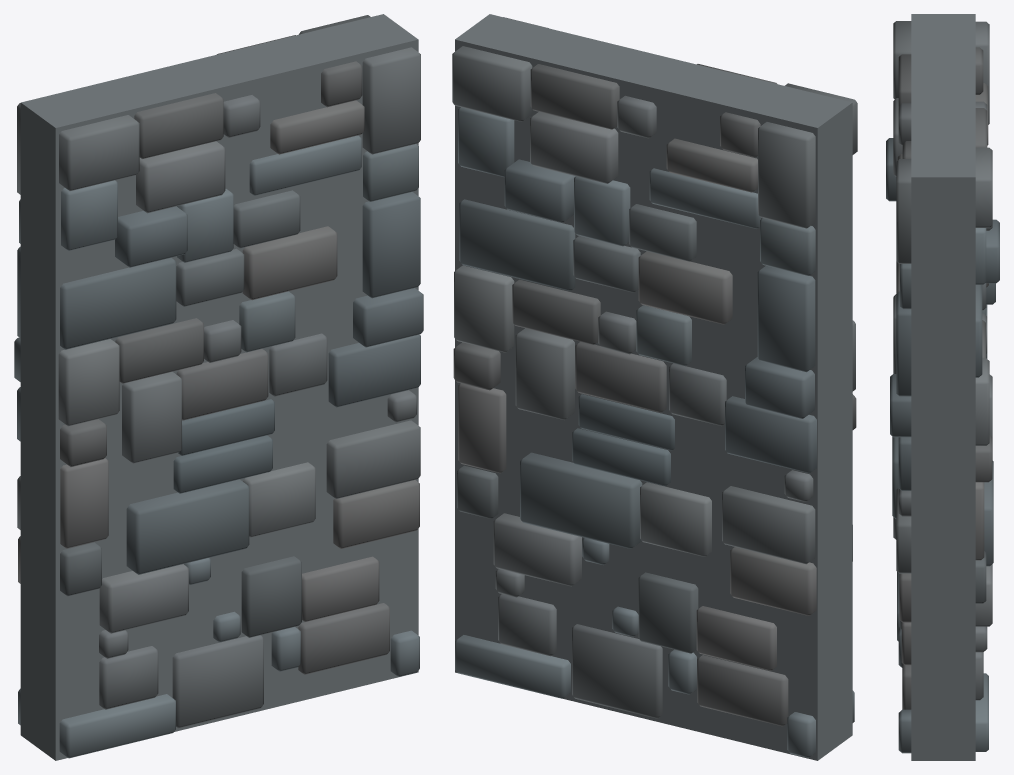
File: wall_001.glb
The picture shows the model from 3 angles, left to right: view 1: azimuth 30°, elevation 25°; view 2: azimuth 150°, elevation 25°; view 3: azimuth 270°, elevation 25°; orthographic projection. The views are drawn at different scales.
Visible parts, largest first — view 1: wall_001; view 2: wall_001; view 3: wall_001.
Boxes of the visible parts, x1=… form: wall_001: x1=14, y1=14, x2=423, y2=760; wall_001: x1=452, y1=14, x2=857, y2=760; wall_001: x1=886, y1=14, x2=999, y2=760.
Size of the model in its own units: 6 by 10 by 1.76.
Materials: 1 (1 with a texture image).
